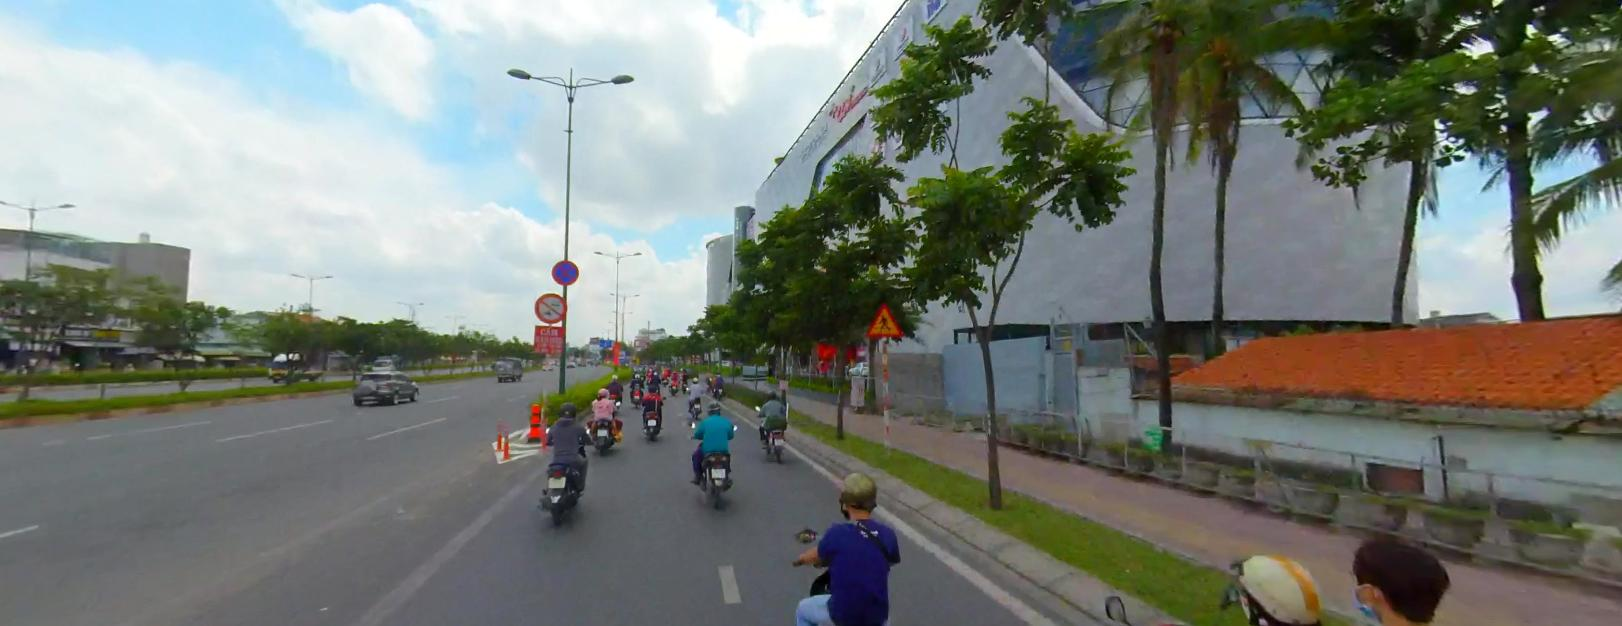Cam con lai: (535, 292, 567, 322)
Cam dung va do: (550, 258, 579, 284)
Nguy hiem: (866, 302, 904, 336)
